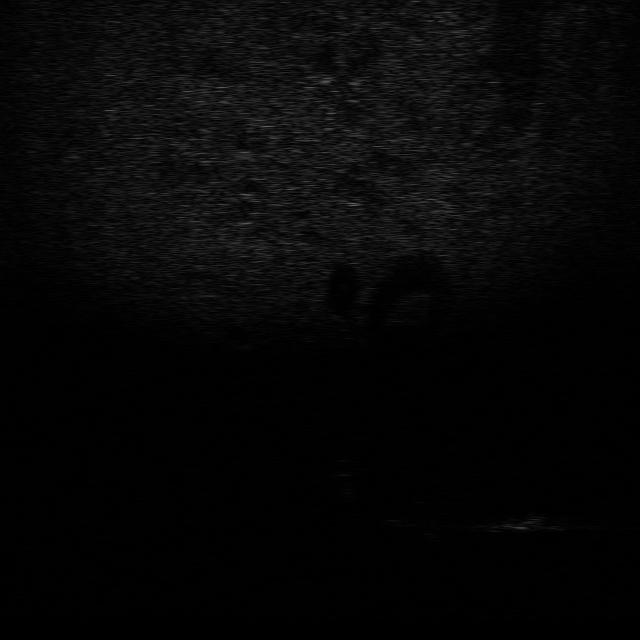ball: (326, 453, 366, 478)
metal bucket: (466, 505, 562, 536)
tyre: (379, 496, 446, 530)
